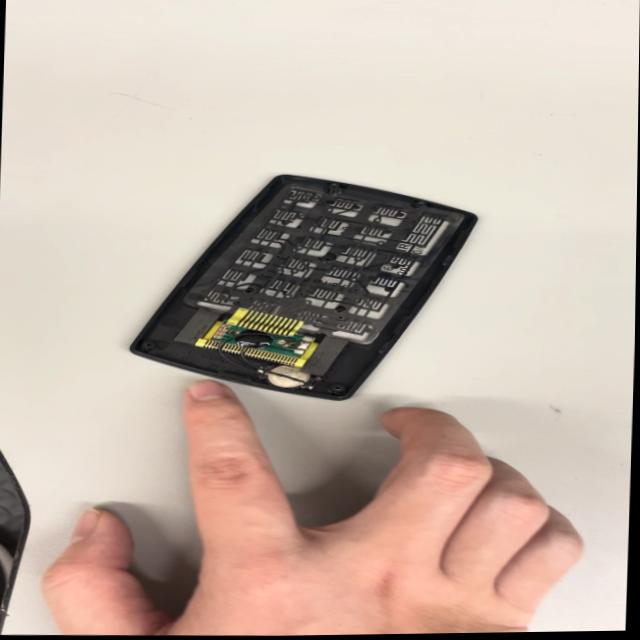front_panel: (134, 167, 480, 404)
